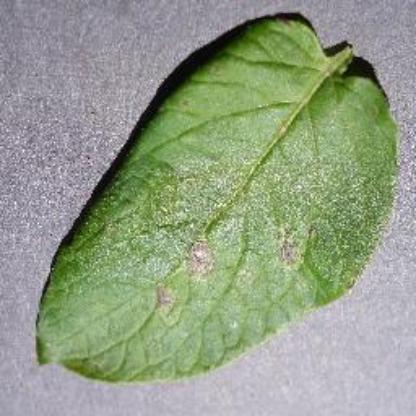Early-Blight: (32, 14, 406, 384)
